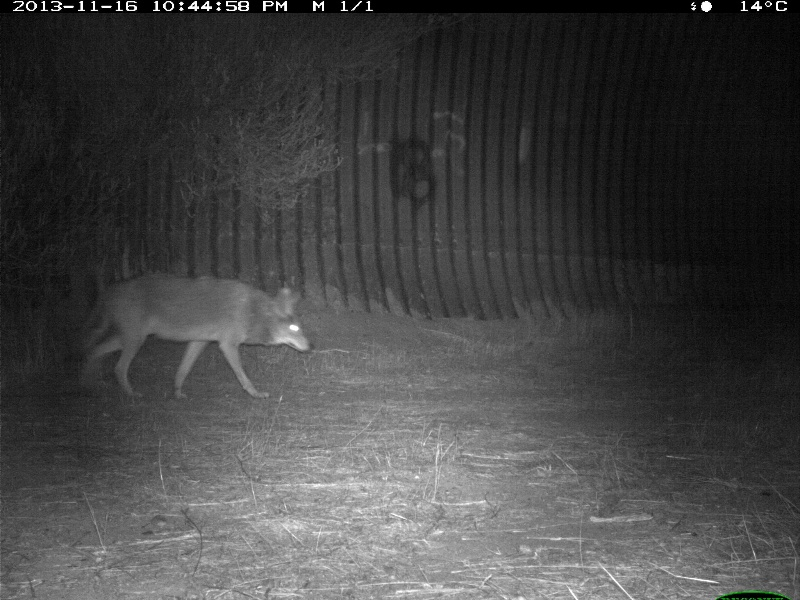coyote: (76, 268, 314, 402)
